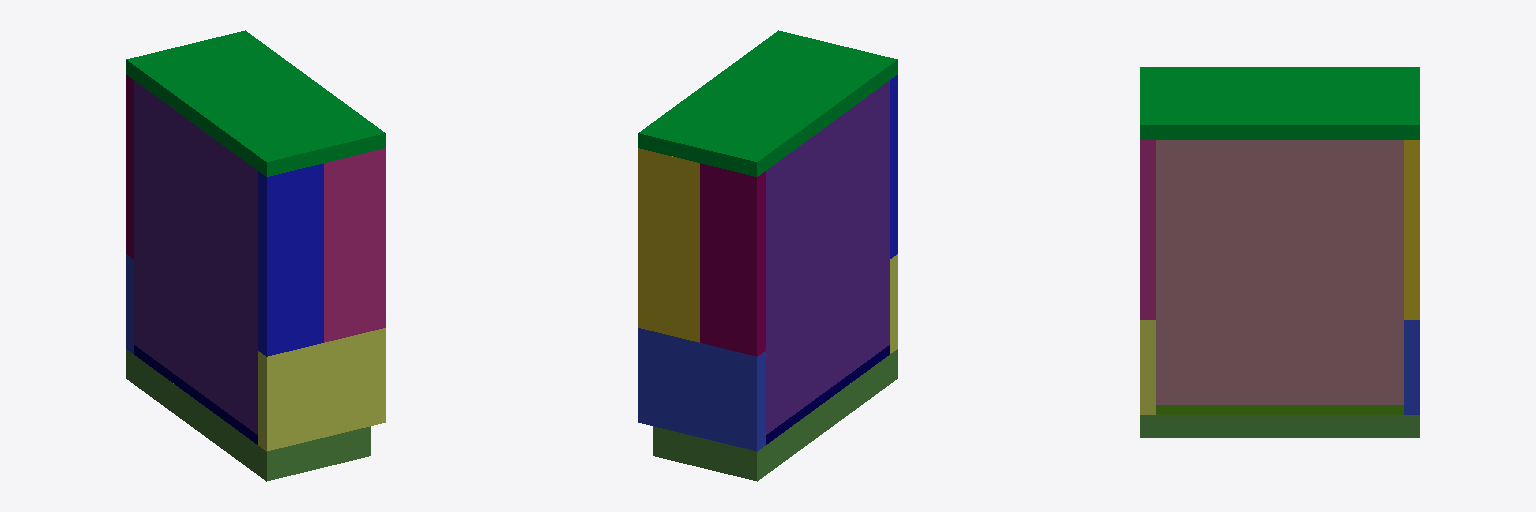
The model's file is kitchen_oven_area.obj.
3 views of the same model, side by side, from view 1: azimuth 30°, elevation 25°; view 2: azimuth 150°, elevation 25°; view 3: azimuth 270°, elevation 25° (orthographic).
Parts seen in each view (by area): view 1: Shape_IndexedFaceSet.010_Shape_IndexedFaceSet.021, Shape_IndexedFaceSet.001_Shape_IndexedFaceSet.012, Shape_IndexedFaceSet.005_Shape_IndexedFaceSet.016, Shape_IndexedFaceSet.009_Shape_IndexedFaceSet.020, Shape_IndexedFaceSet.004_Shape_IndexedFaceSet.015, Shape_IndexedFaceSet_Shape_IndexedFaceSet.011, Shape_IndexedFaceSet.003_Shape_IndexedFaceSet.014, Shape_IndexedFaceSet.007_Shape_IndexedFaceSet.018, Shape_IndexedFaceSet.006_Shape_IndexedFaceSet.017; view 2: Shape_IndexedFaceSet.010_Shape_IndexedFaceSet.021, Shape_IndexedFaceSet.001_Shape_IndexedFaceSet.012, Shape_IndexedFaceSet.006_Shape_IndexedFaceSet.017, Shape_IndexedFaceSet.003_Shape_IndexedFaceSet.014, Shape_IndexedFaceSet.008_Shape_IndexedFaceSet.019, Shape_IndexedFaceSet_Shape_IndexedFaceSet.011, Shape_IndexedFaceSet.009_Shape_IndexedFaceSet.020, Shape_IndexedFaceSet.007_Shape_IndexedFaceSet.018, Shape_IndexedFaceSet.005_Shape_IndexedFaceSet.016; view 3: Shape_IndexedFaceSet.002_Shape_IndexedFaceSet.013, Shape_IndexedFaceSet.001_Shape_IndexedFaceSet.012, Shape_IndexedFaceSet_Shape_IndexedFaceSet.011, Shape_IndexedFaceSet.008_Shape_IndexedFaceSet.019, Shape_IndexedFaceSet.004_Shape_IndexedFaceSet.015, Shape_IndexedFaceSet.011_Shape_IndexedFaceSet.022, Shape_IndexedFaceSet.006_Shape_IndexedFaceSet.017, Shape_IndexedFaceSet.005_Shape_IndexedFaceSet.016.
Part boxes in pixels (bbox=[...]): Shape_IndexedFaceSet.010_Shape_IndexedFaceSet.021: bbox=[134, 81, 257, 434]; Shape_IndexedFaceSet.001_Shape_IndexedFaceSet.012: bbox=[126, 30, 385, 176]; Shape_IndexedFaceSet.005_Shape_IndexedFaceSet.016: bbox=[258, 328, 385, 451]; Shape_IndexedFaceSet.009_Shape_IndexedFaceSet.020: bbox=[258, 163, 323, 356]; Shape_IndexedFaceSet.004_Shape_IndexedFaceSet.015: bbox=[324, 148, 385, 342]; Shape_IndexedFaceSet_Shape_IndexedFaceSet.011: bbox=[126, 349, 370, 481]; Shape_IndexedFaceSet.003_Shape_IndexedFaceSet.014: bbox=[126, 75, 133, 258]; Shape_IndexedFaceSet.007_Shape_IndexedFaceSet.018: bbox=[134, 345, 257, 444]; Shape_IndexedFaceSet.006_Shape_IndexedFaceSet.017: bbox=[126, 254, 133, 353]; Shape_IndexedFaceSet.010_Shape_IndexedFaceSet.021: bbox=[766, 81, 889, 434]; Shape_IndexedFaceSet.001_Shape_IndexedFaceSet.012: bbox=[638, 30, 897, 176]; Shape_IndexedFaceSet.006_Shape_IndexedFaceSet.017: bbox=[638, 328, 765, 451]; Shape_IndexedFaceSet.003_Shape_IndexedFaceSet.014: bbox=[700, 163, 765, 356]; Shape_IndexedFaceSet.008_Shape_IndexedFaceSet.019: bbox=[638, 148, 699, 342]; Shape_IndexedFaceSet_Shape_IndexedFaceSet.011: bbox=[653, 349, 897, 481]; Shape_IndexedFaceSet.009_Shape_IndexedFaceSet.020: bbox=[890, 75, 897, 258]; Shape_IndexedFaceSet.007_Shape_IndexedFaceSet.018: bbox=[766, 345, 889, 444]; Shape_IndexedFaceSet.005_Shape_IndexedFaceSet.016: bbox=[890, 254, 897, 353]; Shape_IndexedFaceSet.002_Shape_IndexedFaceSet.013: bbox=[1156, 140, 1403, 404]; Shape_IndexedFaceSet.001_Shape_IndexedFaceSet.012: bbox=[1140, 67, 1419, 139]; Shape_IndexedFaceSet_Shape_IndexedFaceSet.011: bbox=[1140, 415, 1419, 437]; Shape_IndexedFaceSet.008_Shape_IndexedFaceSet.019: bbox=[1404, 140, 1419, 319]; Shape_IndexedFaceSet.004_Shape_IndexedFaceSet.015: bbox=[1140, 140, 1155, 319]; Shape_IndexedFaceSet.011_Shape_IndexedFaceSet.022: bbox=[1156, 405, 1403, 414]; Shape_IndexedFaceSet.006_Shape_IndexedFaceSet.017: bbox=[1404, 320, 1419, 414]; Shape_IndexedFaceSet.005_Shape_IndexedFaceSet.016: bbox=[1140, 320, 1155, 414].
Size of the model in its own units: 0.5992 by 1.53 by 1.22.